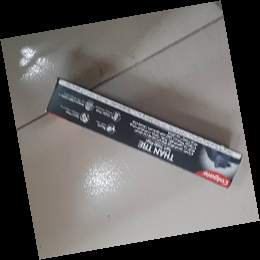Colgate Than: (44, 78, 246, 190)
